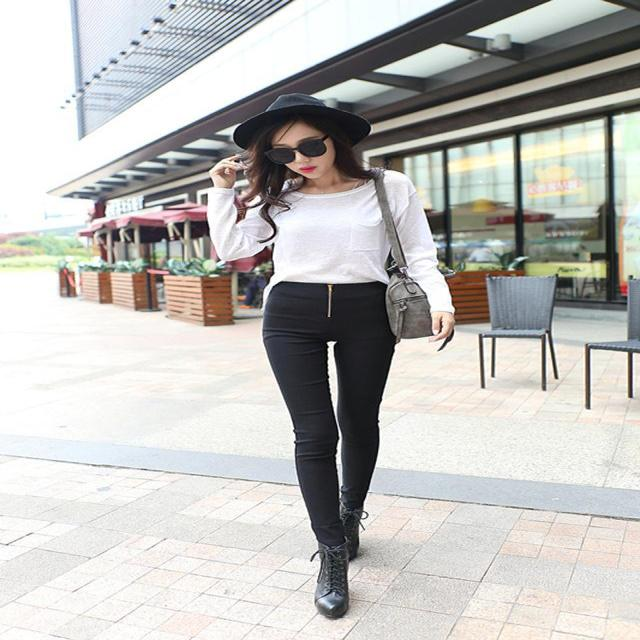long-sleeve-top: (216, 165, 466, 292)
trousers: (255, 304, 444, 554)
